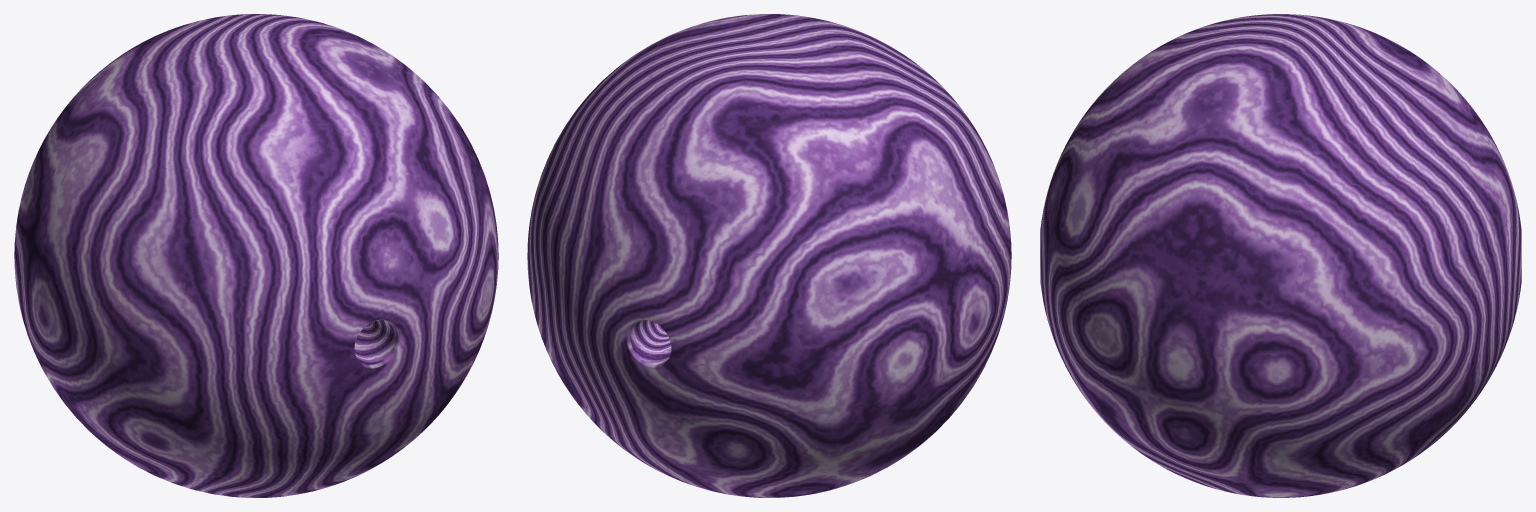
The model's file is charoite-10mm.glb.
3 renders of one model, left to right at view 1: azimuth 30°, elevation 25°; view 2: azimuth 150°, elevation 25°; view 3: azimuth 270°, elevation 25°, orthographic.
Parts seen in each view (by area): view 1: charoite.001; view 2: charoite.001; view 3: charoite.001.
Boxes of the visible parts, x1,y1,x2,y2 form: charoite.001: (14,14,498,497); charoite.001: (527,14,1011,497); charoite.001: (1040,14,1521,497).
Size of the model in its own units: 0.01 by 0.01 by 0.00994.
1 material, 1 textured.
